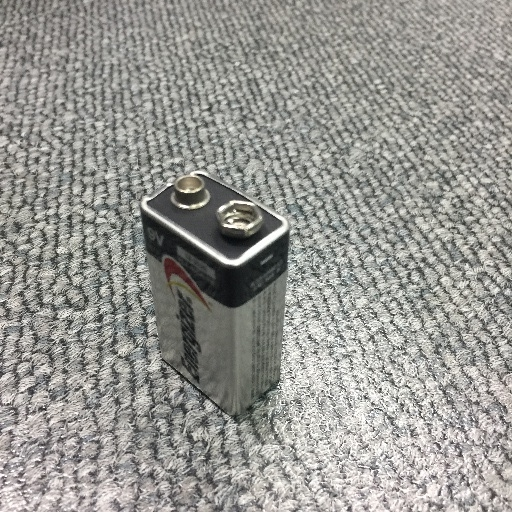Battery_3: (125, 153, 302, 434)
